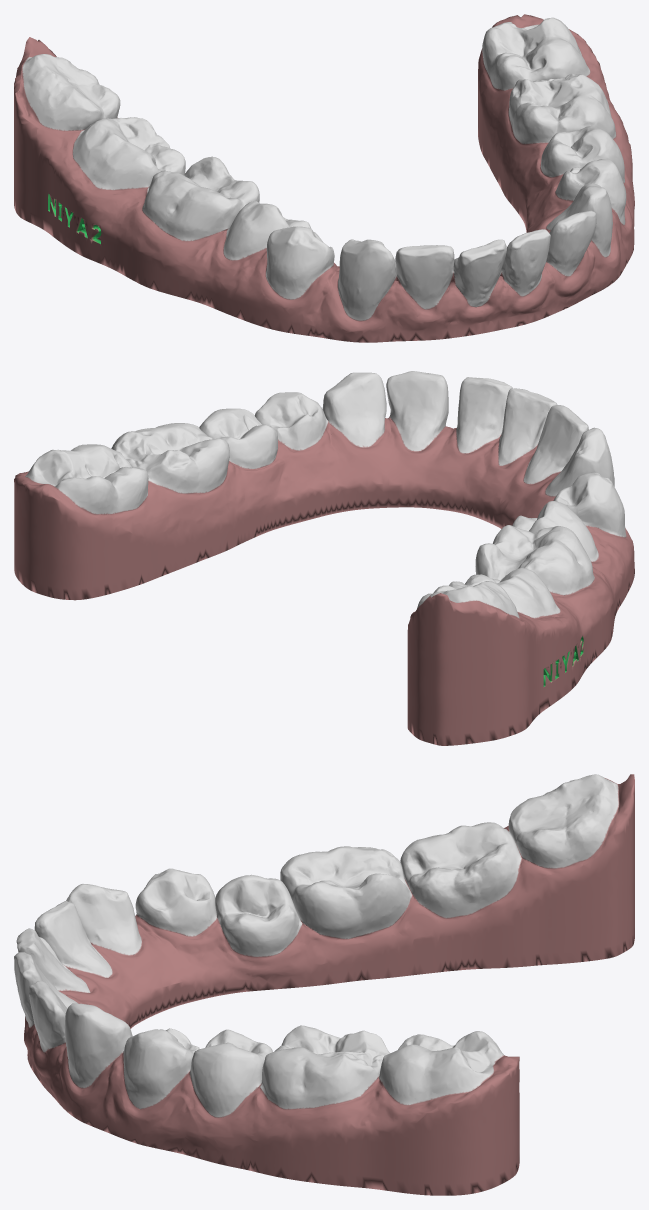
File: Niya Priority Lower jaw - 02 - Model.glb
The picture shows the model from 3 angles, top to bottom: view 1: azimuth 30°, elevation 25°; view 2: azimuth 150°, elevation 25°; view 3: azimuth 270°, elevation 25°; orthographic projection. The views are drawn at different scales.
Parts seen in each view (by area): view 1: Niya Priority Lower jaw - 02 - Model; view 2: Niya Priority Lower jaw - 02 - Model; view 3: Niya Priority Lower jaw - 02 - Model.
Boxes of the visible parts, bbox=[...] form: Niya Priority Lower jaw - 02 - Model: bbox=[14, 14, 634, 342]; Niya Priority Lower jaw - 02 - Model: bbox=[14, 371, 634, 745]; Niya Priority Lower jaw - 02 - Model: bbox=[14, 774, 634, 1195].
Size of the model in its own units: 62.72 by 16.53 by 57.8.
